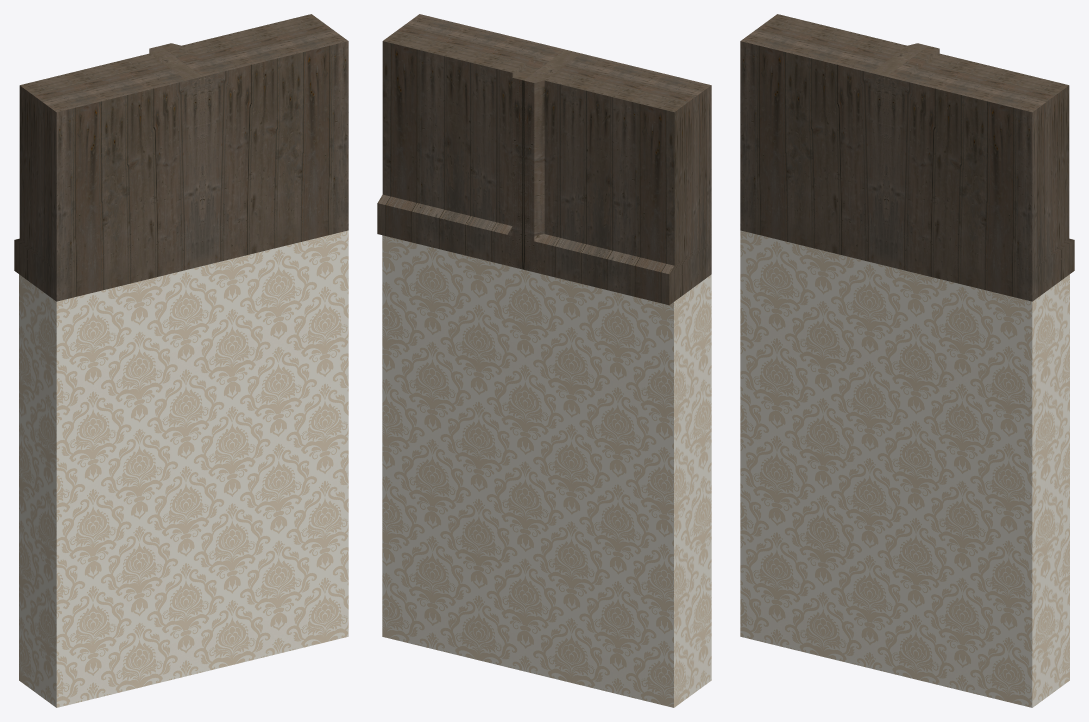
Rendered from wall.glb.
The picture shows the model from 3 angles, left to right: view 1: azimuth 30°, elevation 25°; view 2: azimuth 150°, elevation 25°; view 3: azimuth 330°, elevation 25°; orthographic projection.
Parts seen in each view (by area): view 1: plank; view 2: plank; view 3: plank.
Boxes of the visible parts, <box> form: plank: <box>14,14,348,707</box>; plank: <box>377,14,711,707</box>; plank: <box>740,14,1074,707</box>.
Size of the model in its own units: 2 by 3.9 by 0.5.
3 materials, 3 textured.
